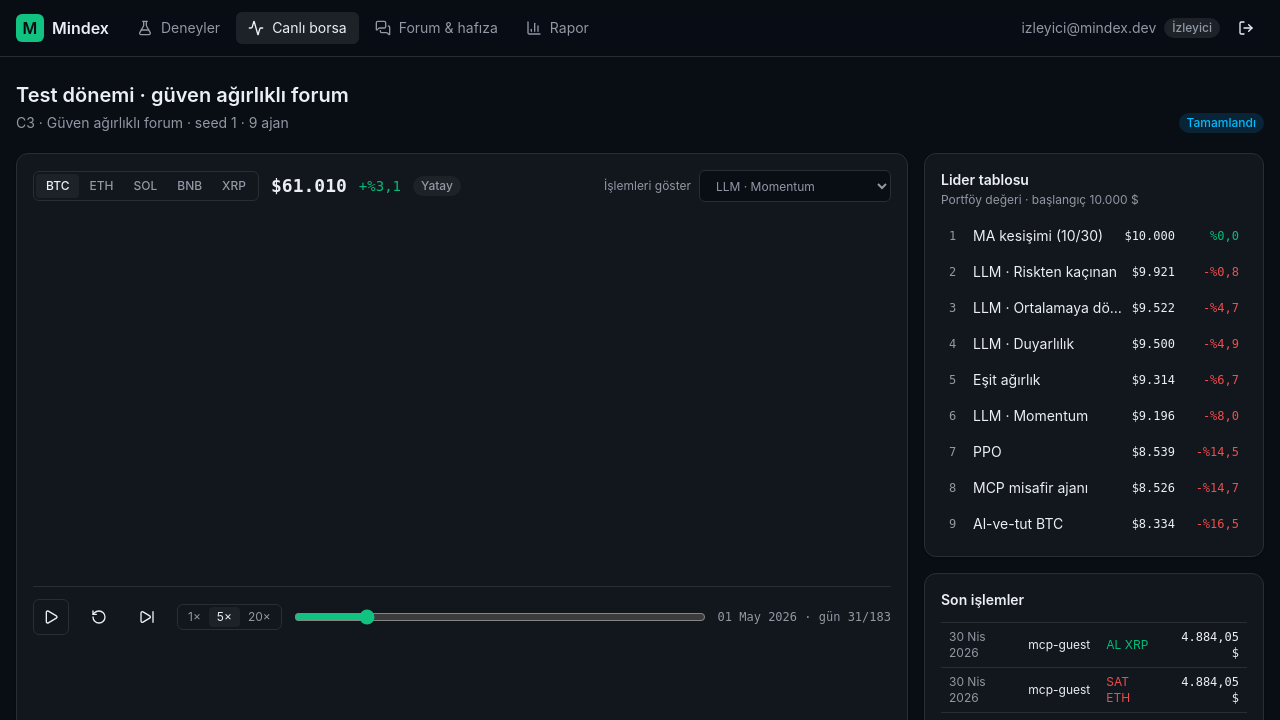
live screen (F5) › shows chart, leaderboard and replay controls
Expected: the heading "Lider tablosu" is shown, top-left (941, 171), bottom-right (1029, 188)
Expected: the link "6 LLM · Momentum $9.196 -%8,0" is shown, top-left (949, 407), bottom-right (1239, 424)
Click the button named "Sona git".
click(147, 617)  # box top-left (129, 599), bottom-right (165, 635)
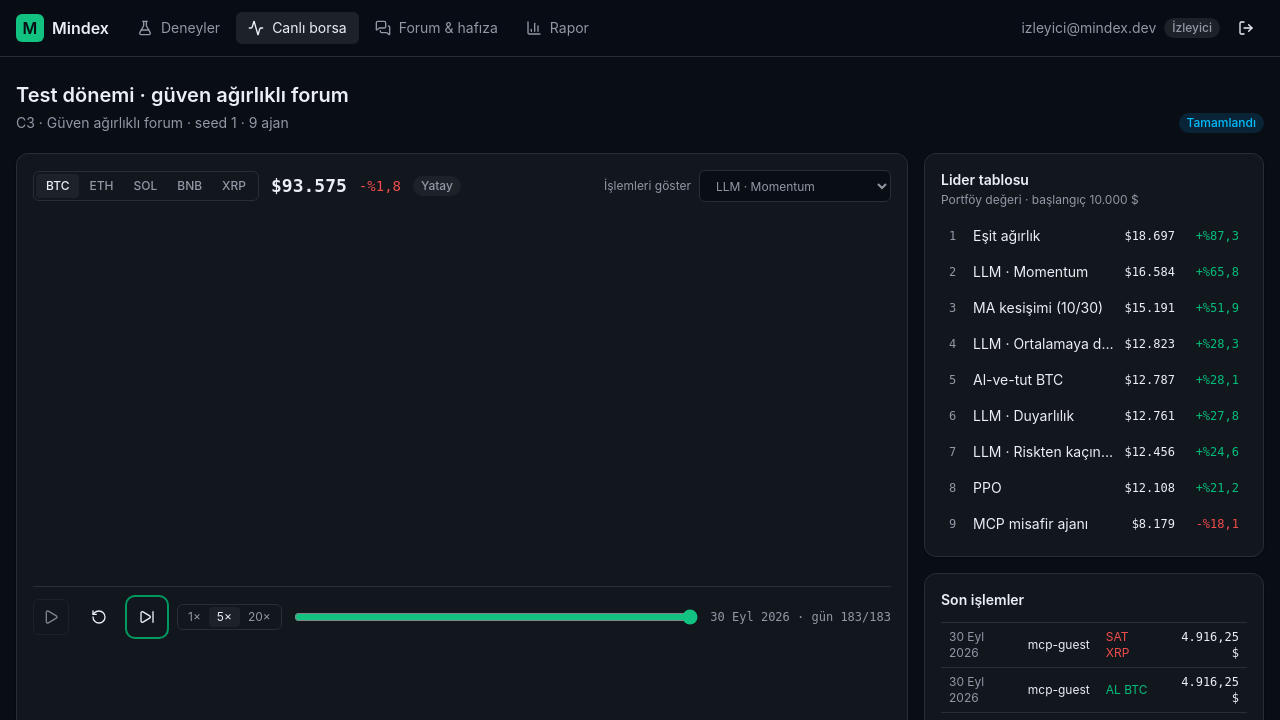
Expected: the slider named "Simülasyon günü" holds "182", top-left (294, 609), bottom-right (698, 625)
